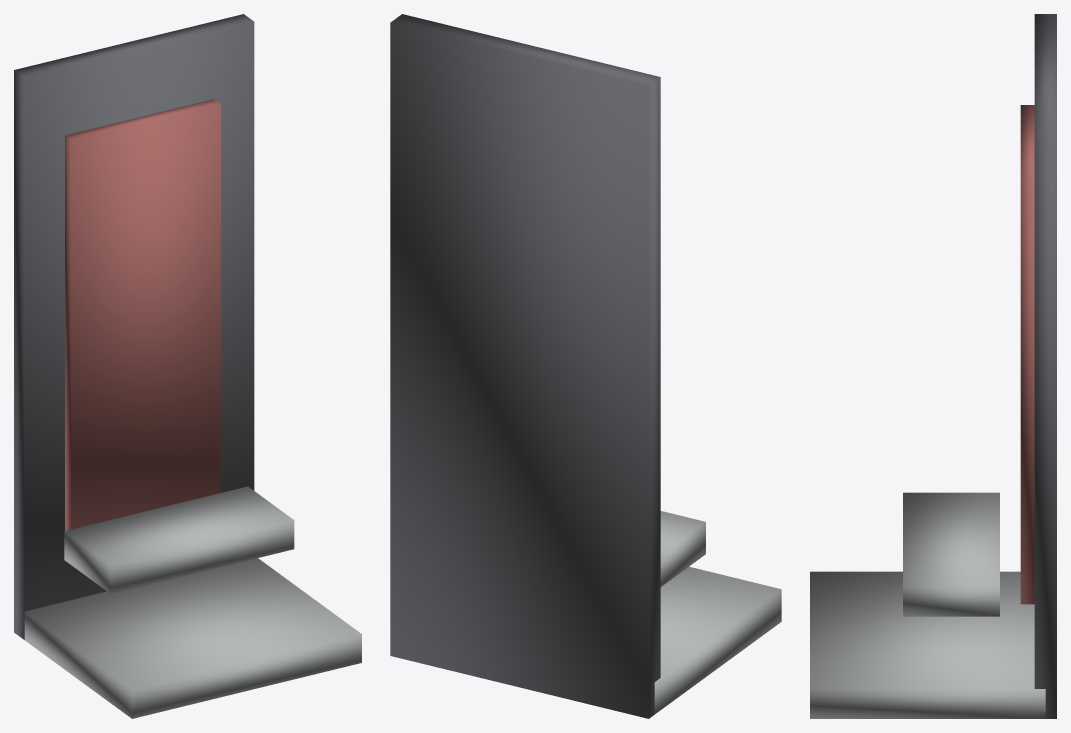
File: roof_access_hatch_stair_13.glb
3 renders of one model, left to right at view 1: azimuth 30°, elevation 25°; view 2: azimuth 150°, elevation 25°; view 3: azimuth 270°, elevation 25°, orthographic. The views are drawn at different scales.
Parts seen in each view (by area): view 1: world; view 2: world; view 3: world.
Boxes of the visible parts, x1,y1,x2,y2 form: world: (14,14,361,718); world: (390,14,781,718); world: (810,14,1056,718).
Bounding box in the file's own units: 1 × 2.34 × 0.89.
